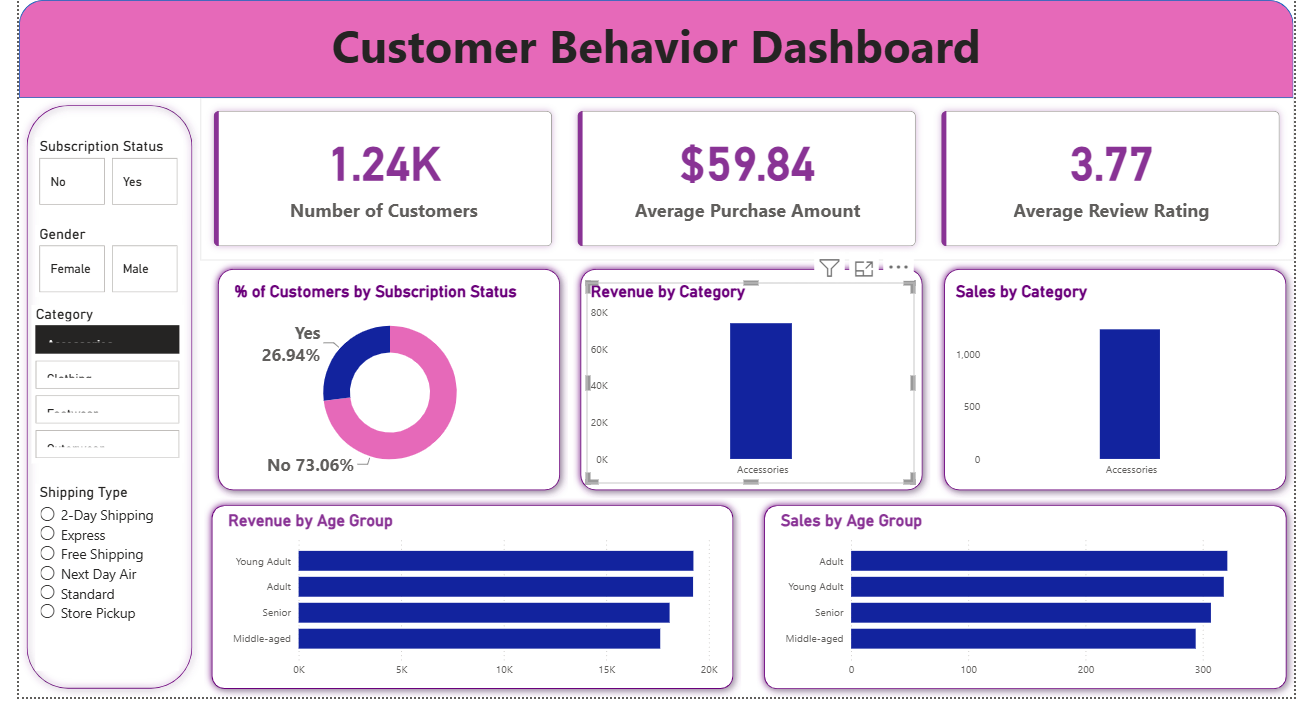

Layout of this report page (visuals, bound fields, positions):
{"tool":"powerbi","page":{"name":"Page 1","canvas":[1500,820],"ordinal":0},"visuals":[{"type":"cardVisual","fields":{"Data":["public customer.Number of Customers","public customer.Average Purchase Amount","public customer.Average Review Rating"]},"box":[212.9,115.3,1286.5,191.6],"z":2000},{"type":"shape","box":[218.3,585.6,631.7,234.2],"z":2500,"group":"g1"},{"type":"shape","box":[0,0,1499.4,115.3],"z":3000},{"type":"textbox","box":[0,12.4,1499.4,102.9],"z":4000},{"type":"shape","box":[225.4,307,420.5,278.6],"z":5000},{"type":"donutChart","title":"% of Customers by Subscription Status","fields":{"Category":["public customer.subscription_status"],"Y":["CountNonNull(public customer.customer_id)"]},"box":[248.4,331.8,376.2,237.8],"z":6000},{"type":"shape","box":[1078.9,307,420.5,278.6],"z":7000},{"type":"shape","box":[652.1,307,420.5,278.6],"z":8000},{"type":"clusteredColumnChart","title":"Revenue by Category","fields":{"Y":["Sum(public customer.purchase_amount)"],"Category":["public customer.category"]},"box":[667.2,331.8,385.1,237.8],"z":9000},{"type":"clusteredColumnChart","title":"Sales by Category","fields":{"Y":["CountNonNull(public customer.customer_id)"],"Category":["public customer.category"]},"box":[1096.6,331.8,385.1,237.8],"z":10000},{"type":"shape","box":[0,115.3,212.9,704.5],"z":11000},{"type":"advancedSlicerVisual","fields":{"Values":["public customer.subscription_status"]},"box":[19.5,161.5,173.9,85.2],"z":12000},{"type":"advancedSlicerVisual","fields":{"Values":["public customer.gender"]},"box":[19.5,264.4,173.9,85.2],"z":13000},{"type":"advancedSlicerVisual","fields":{"Values":["public customer.category"]},"box":[14.7,358.8,179.4,283.8],"z":14000},{"type":"slicer","fields":{"Values":["public customer.shipping_type"]},"box":[22.1,679.4,169.1,67.6],"z":15000},{"type":"shape","box":[867.2,585.2,632.8,234.4],"z":16000},{"type":"clusteredBarChart","title":"Sales by Age Group","fields":{"Y":["CountNonNull(public customer.customer_id)"],"Category":["public customer.age_group"]},"box":[890.8,601.5,585.6,204.1],"z":17000},{"type":"clusteredBarChart","title":"Revenue by Age Group","fields":{"Y":["Sum(public customer.purchase_amount)"],"Category":["public customer.age_group"]},"box":[241.4,601.6,585.6,204.1],"z":17500,"group":"g1"},{"type":"group","id":"g1","title":"Group 1","box":[218.3,585.6,631.7,234.2],"z":17501}]}

Visuals, with their boxes in screenshot pixels (x1, y1, x2, y2), scaled from the page's 1500x820 canvas onto the 1312x703 screenshot:
cardVisual - public customer.Number of Customers x public customer.Average Purchase Amount: 186:99:1311:263
shape: 191:502:743:702
shape: 0:0:1311:99
textbox: 0:11:1311:99
shape: 197:263:565:502
"% of Customers by Subscription Status" donutChart: 217:284:546:488
shape: 944:263:1311:502
shape: 570:263:938:502
"Revenue by Category" clusteredColumnChart: 584:284:920:488
"Sales by Category" clusteredColumnChart: 959:284:1296:488
shape: 0:99:186:702
advancedSlicerVisual - public customer.subscription_status: 17:138:169:212
advancedSlicerVisual - public customer.gender: 17:227:169:300
advancedSlicerVisual - public customer.category: 13:308:170:551
slicer - public customer.shipping_type: 19:582:167:640
shape: 759:502:1311:702
"Sales by Age Group" clusteredBarChart: 779:516:1291:691
"Revenue by Age Group" clusteredBarChart: 211:516:723:691
"Group 1" group: 191:502:743:702
